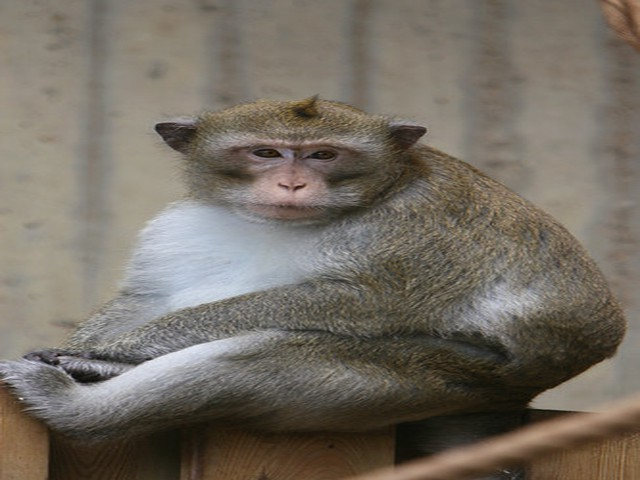Monkey: (39, 89, 637, 441)
